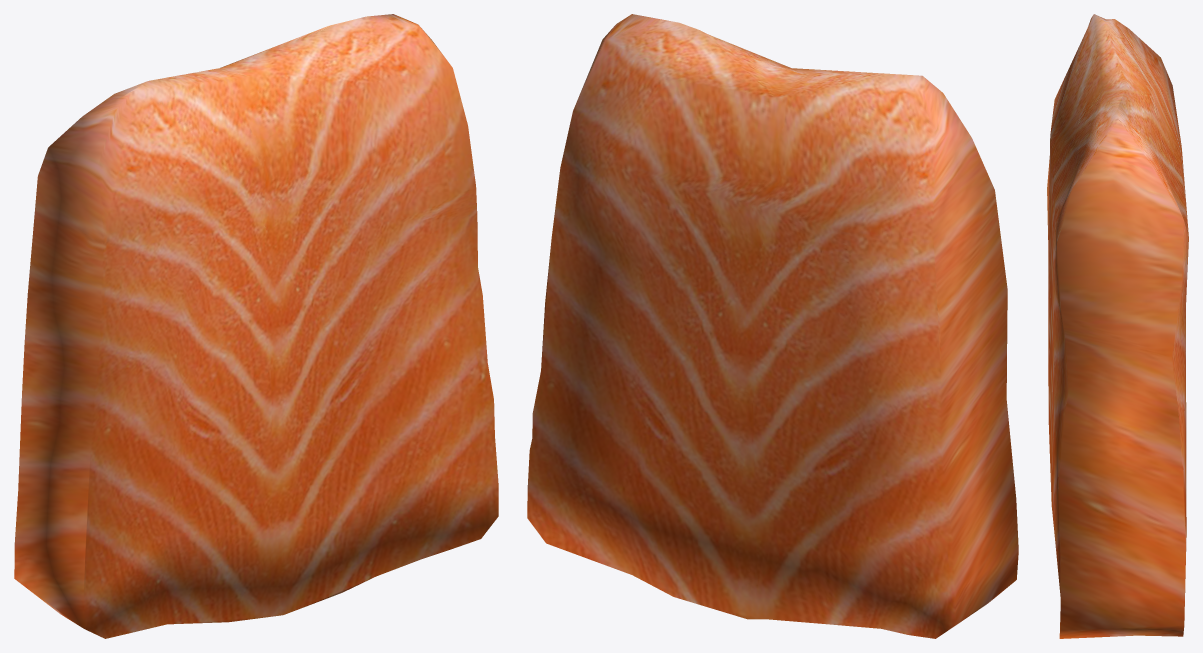
The model's file is salmone_lowpoly.fbx.
3 views of the same model, side by side, from view 1: azimuth 30°, elevation 25°; view 2: azimuth 150°, elevation 25°; view 3: azimuth 270°, elevation 25° (orthographic). The views are drawn at different scales.
Parts seen in each view (by area): view 1: salmone; view 2: salmone; view 3: salmone.
Part boxes in pixels (box(x1,y1,x2,y2)): salmone: box(14, 14, 498, 638); salmone: box(527, 14, 1018, 638); salmone: box(1047, 14, 1188, 638).
Size of the model in its own units: 128 by 158 by 40.04.
